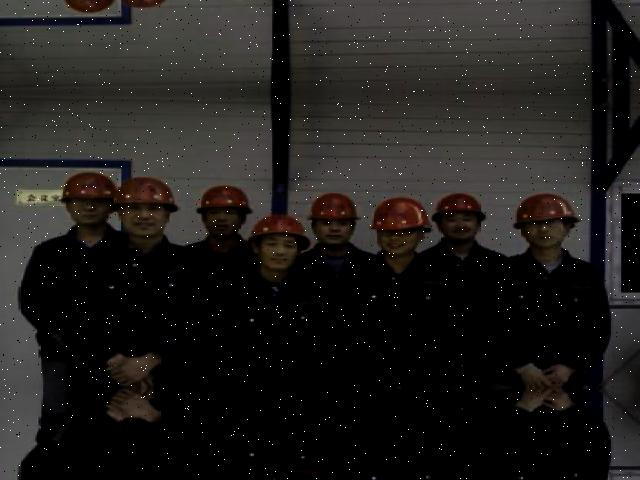Helmet: (109, 174, 182, 216), (506, 192, 582, 230), (363, 193, 432, 232), (242, 212, 310, 248), (191, 182, 255, 218), (60, 168, 115, 208), (304, 190, 361, 226), (426, 190, 487, 222)
